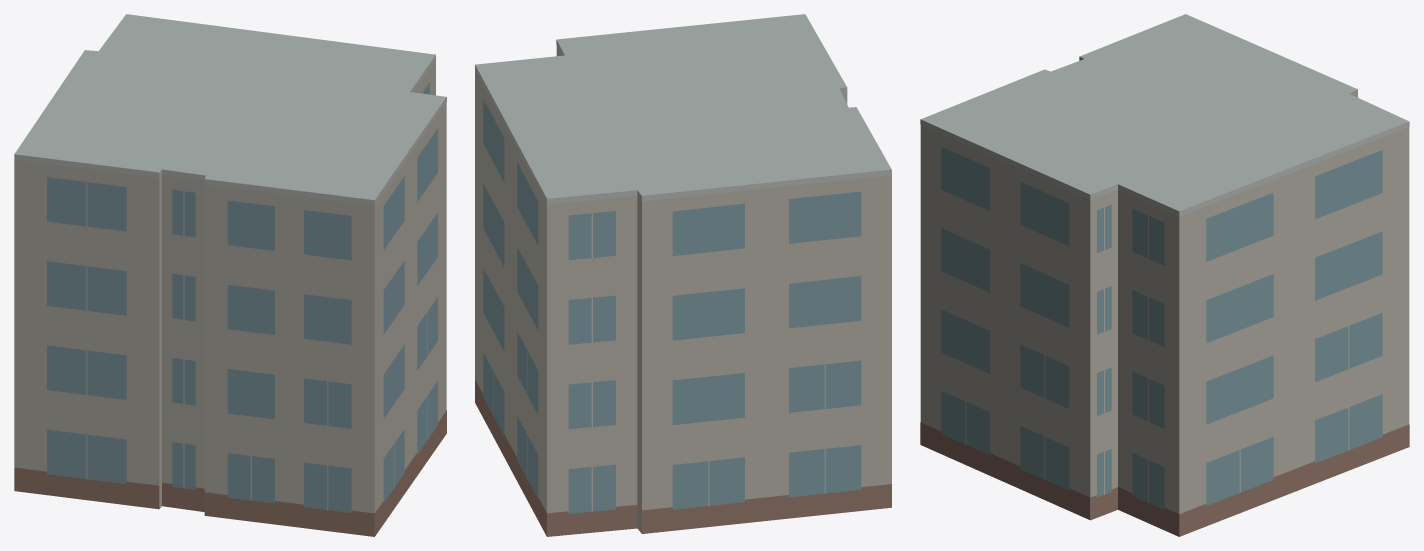
File: survey-upis-32976222.glb
3 views of the same model, side by side, from view 1: azimuth 30°, elevation 25°; view 2: azimuth 150°, elevation 25°; view 3: azimuth 270°, elevation 25° (orthographic). The views are drawn at different scales.
Visible parts, largest first — view 1: survey-upis-32976222.tmp; view 2: survey-upis-32976222.tmp; view 3: survey-upis-32976222.tmp.
Boxes of the visible parts, bbox=[...] form: survey-upis-32976222.tmp: bbox=[14, 14, 446, 536]; survey-upis-32976222.tmp: bbox=[475, 14, 891, 536]; survey-upis-32976222.tmp: bbox=[920, 14, 1409, 536].
Bounding box in the file's own units: 19.12 × 14.7 × 20.01.
